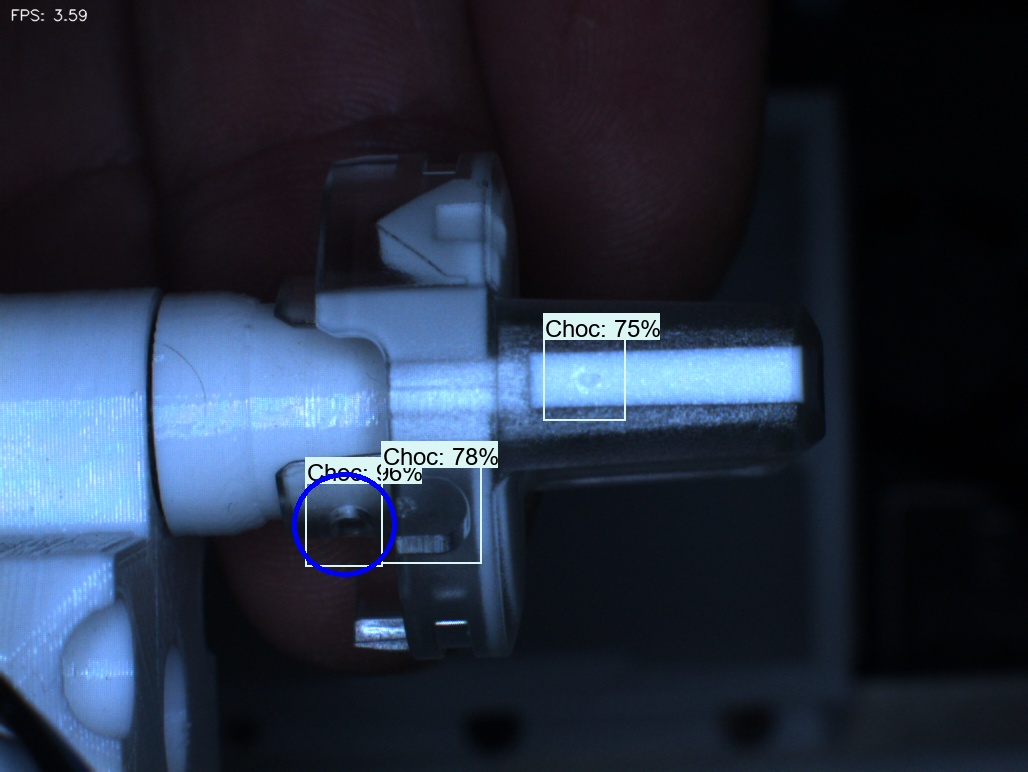DentOk: (348, 183, 421, 280)
